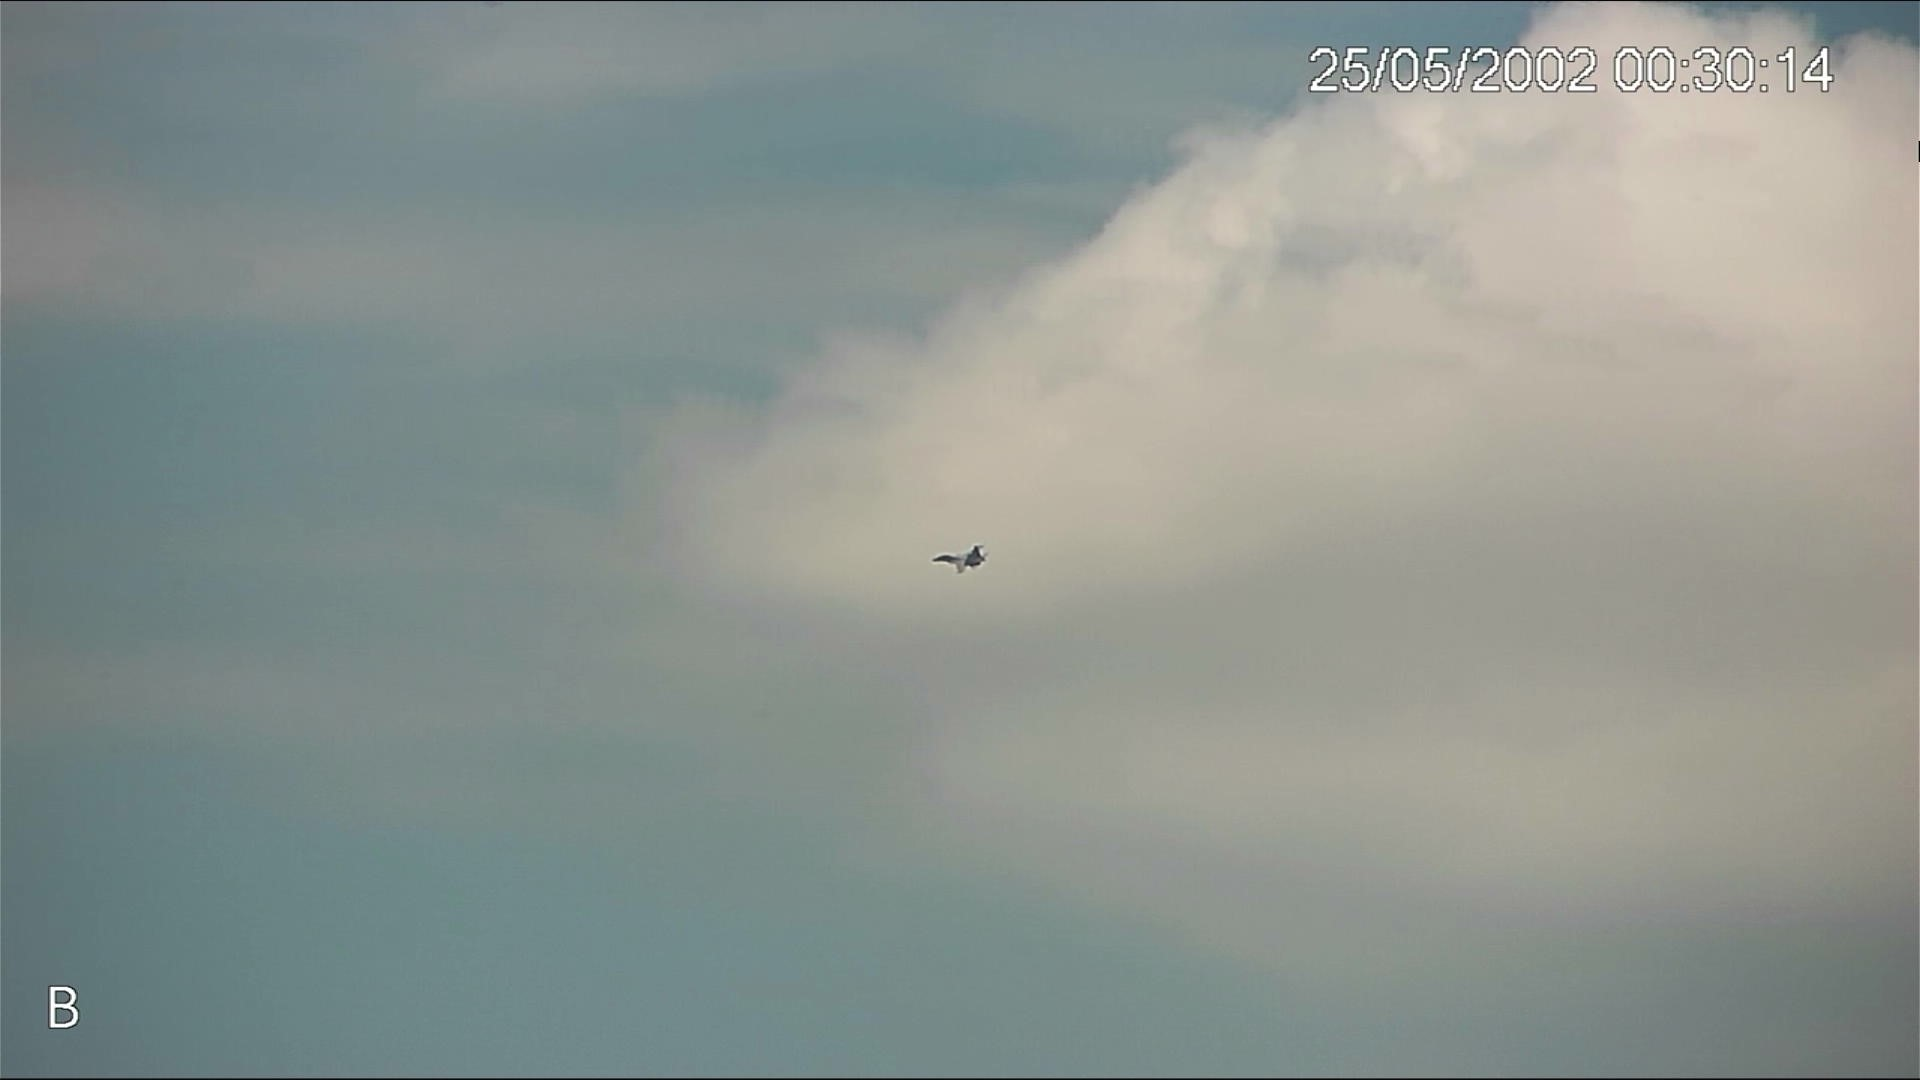SU_30: (930, 545, 993, 575)
